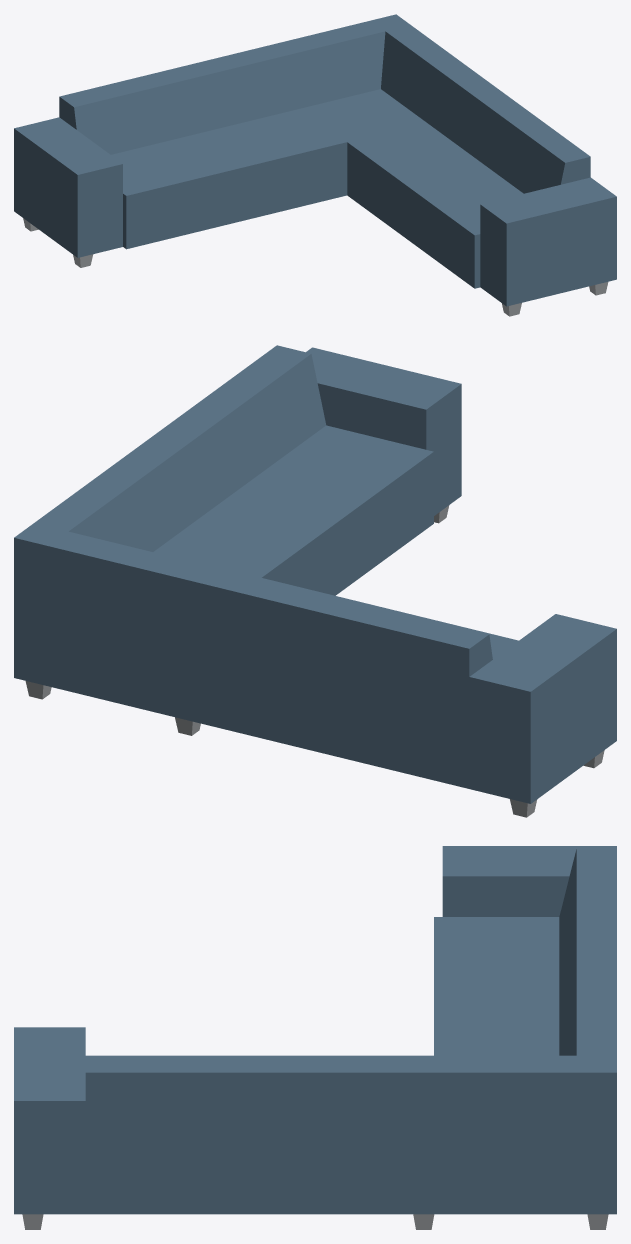
File: sofa_modern_corner.glb
3 views of the same model, one above another, from view 1: azimuth 30°, elevation 25°; view 2: azimuth 150°, elevation 25°; view 3: azimuth 270°, elevation 25° (orthographic). The views are drawn at different scales.
Visible parts, largest first — view 1: sofa_modern_corner; view 2: sofa_modern_corner; view 3: sofa_modern_corner.
Boxes of the visible parts, left/top/right/bottom form: sofa_modern_corner: left=14, top=14, right=616, bottom=316; sofa_modern_corner: left=14, top=345, right=616, bottom=817; sofa_modern_corner: left=14, top=846, right=616, bottom=1229.
Size of the model in its own units: 2.7 by 0.8 by 2.7.
